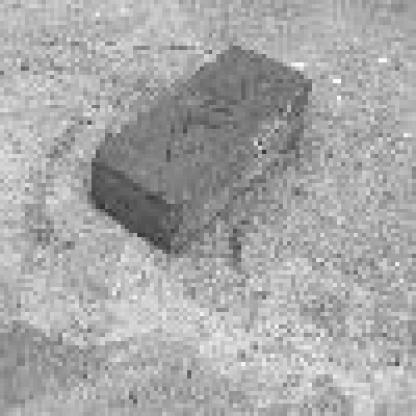brick: (91, 39, 316, 260)
